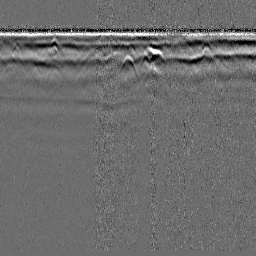cavity: (118, 53, 138, 77)
